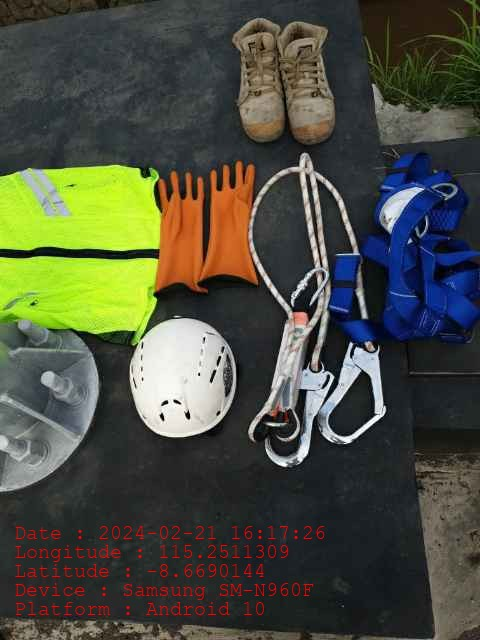HELM: (129, 318, 238, 436)
SARUNG TANGAN: (157, 161, 259, 293)
SEPATU: (231, 17, 335, 147)
TAMBANG_SLING: (257, 158, 387, 467)
